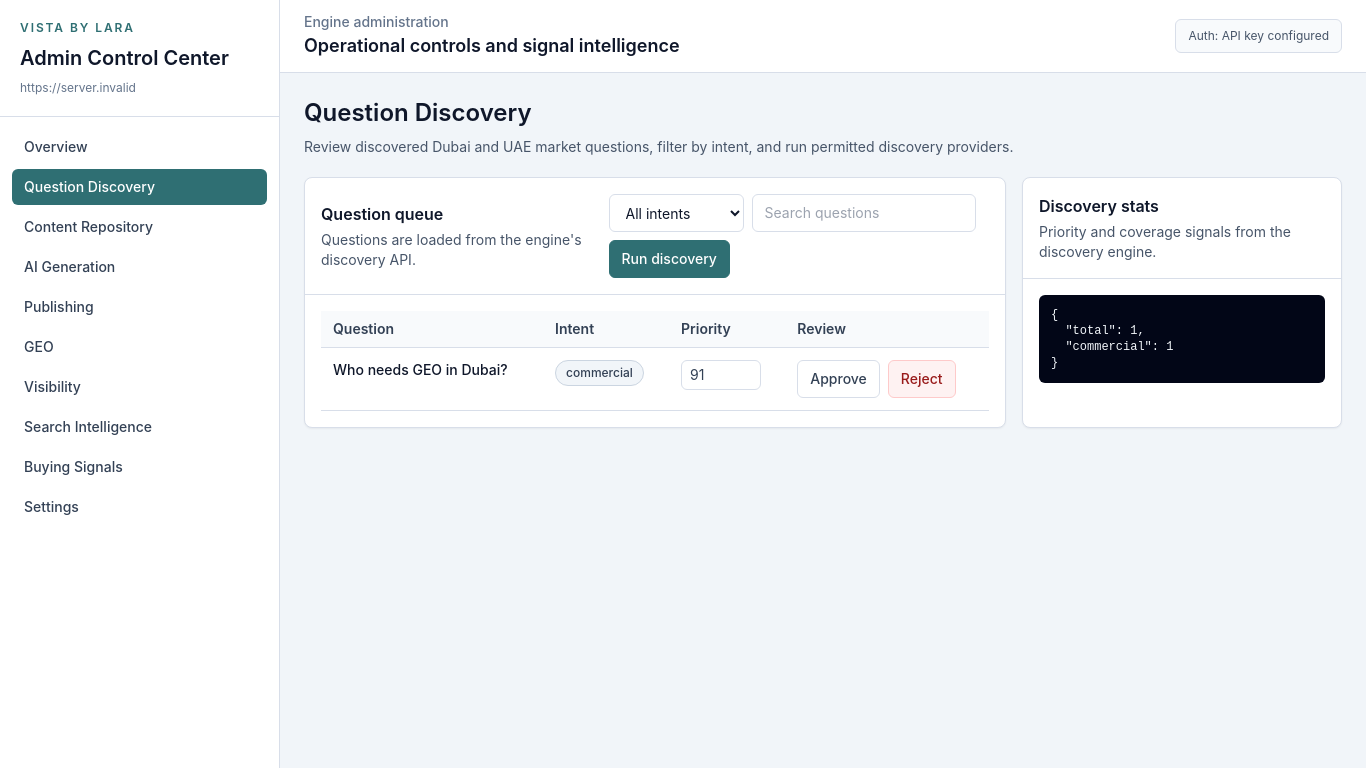
Admin Control Center › reviews question discovery items and runs discovery
Later steps or results of the test are not shown.
Expected: the text "Who needs GEO in Dubai?" is shown, [333,361,508,378]
Click the button "Approve" at (839, 379), box [797,360,880,398]
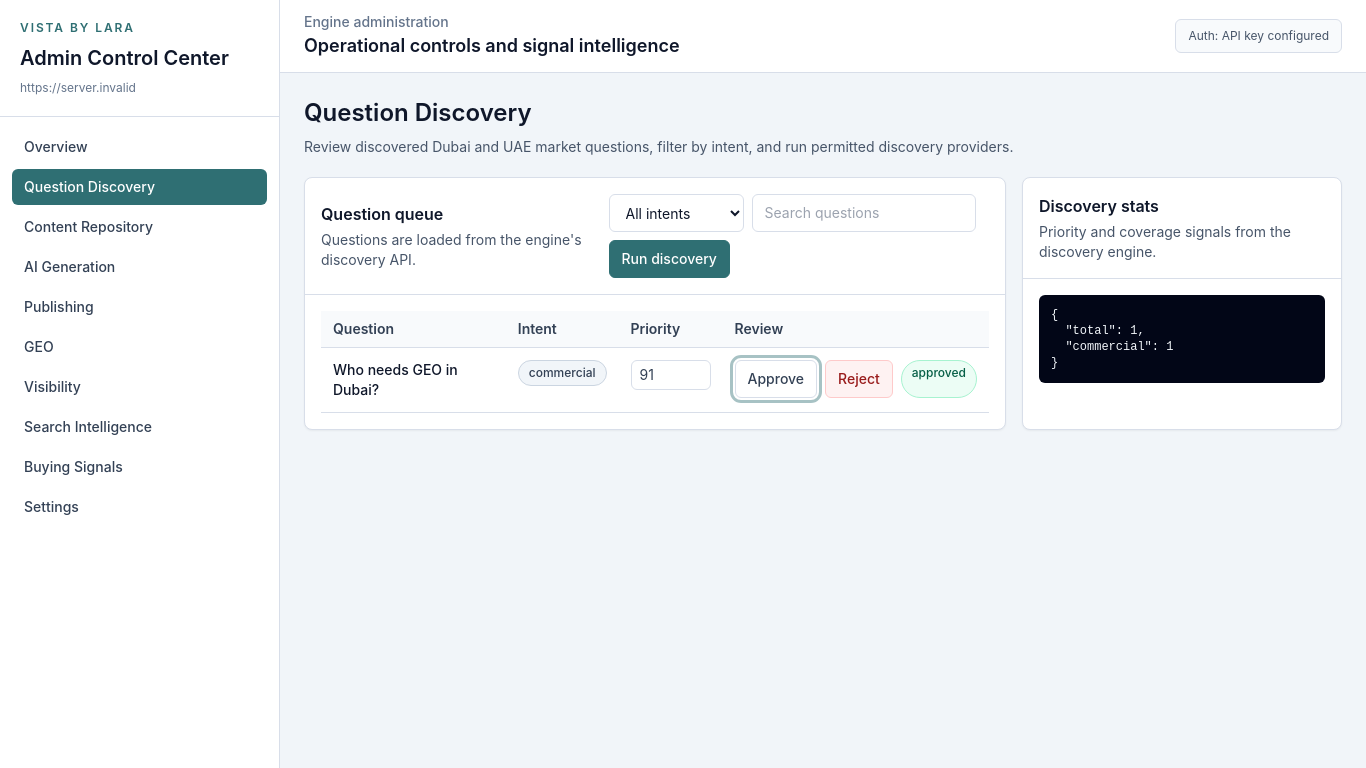
Expected: the text "approved" is shown, [901,360,977,398]
